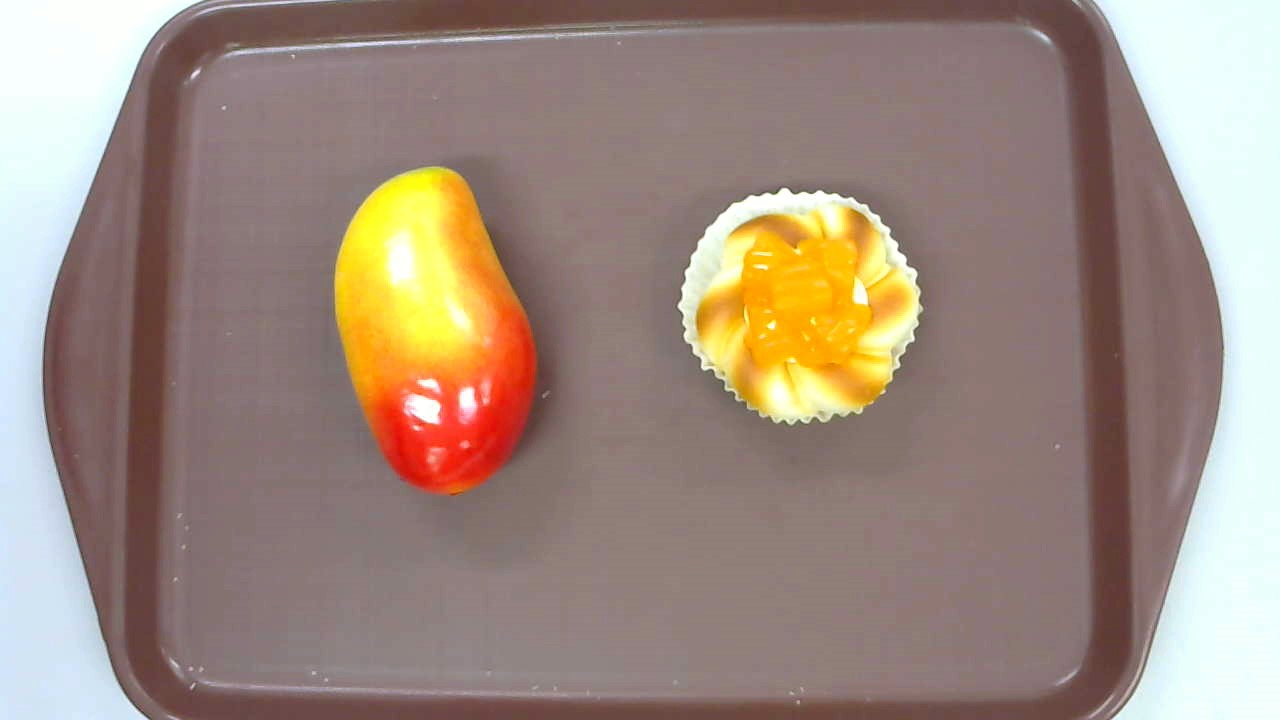mango tart: (678, 188, 922, 427)
red mango: (333, 166, 536, 497)
